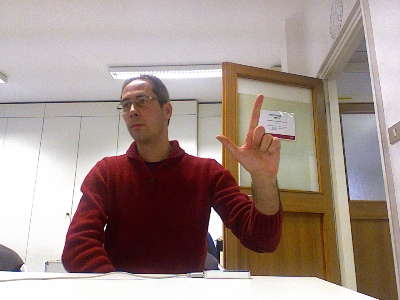枪: (214, 92, 281, 175)
